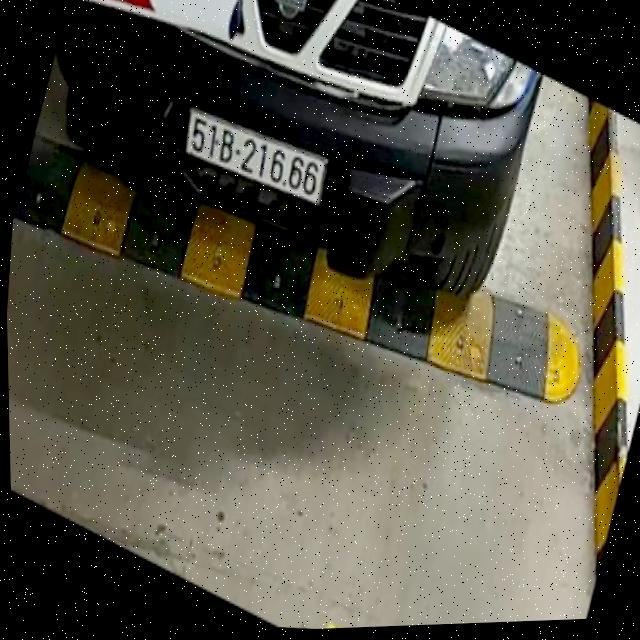car: (28, 0, 556, 324)
plate: (174, 92, 335, 212)
